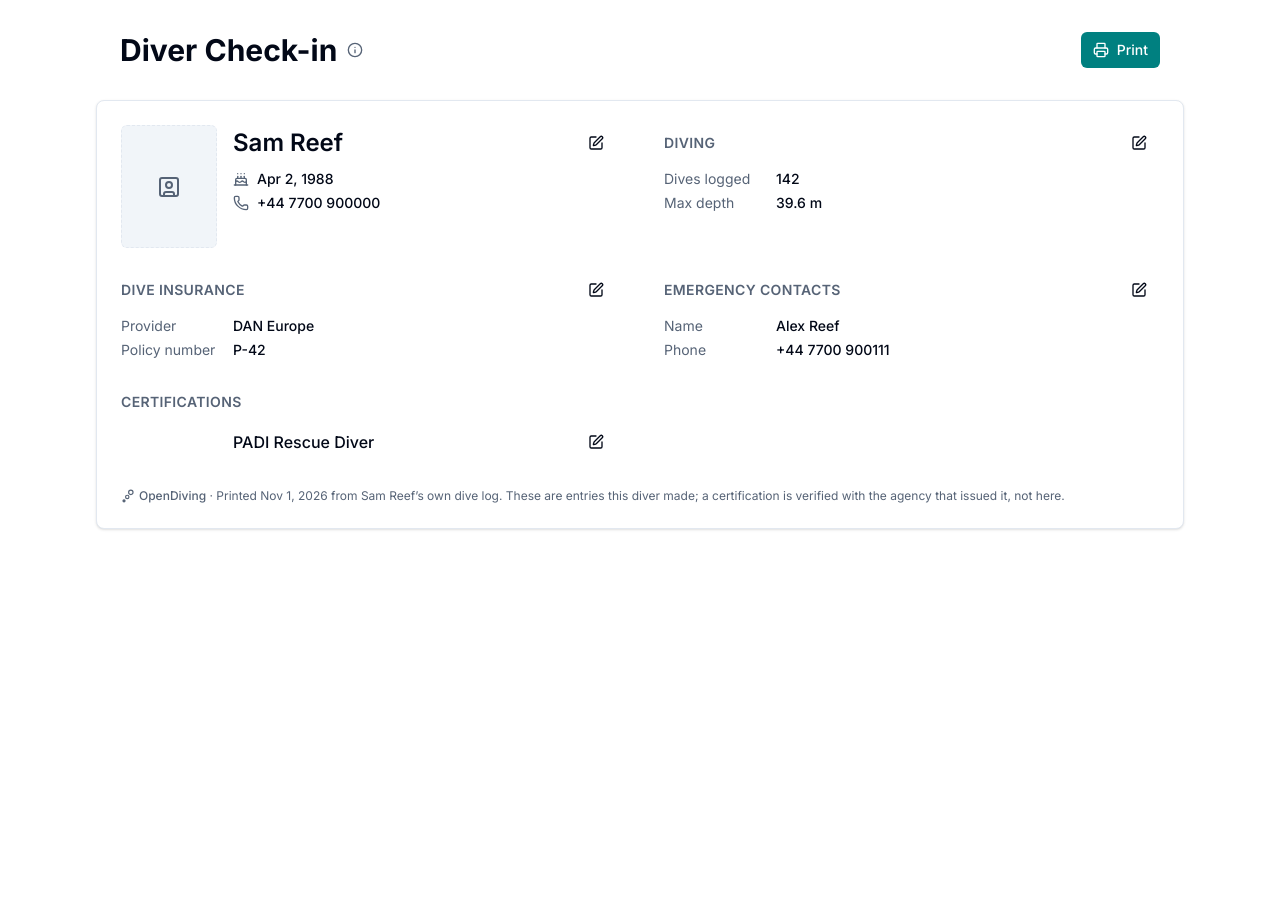
Scenario: editing from the sheet › opens a card in the certification form it is edited in everywhere else
Click the button named "Edit Rescue Diver" at (596, 442), box [576,424,616,460]
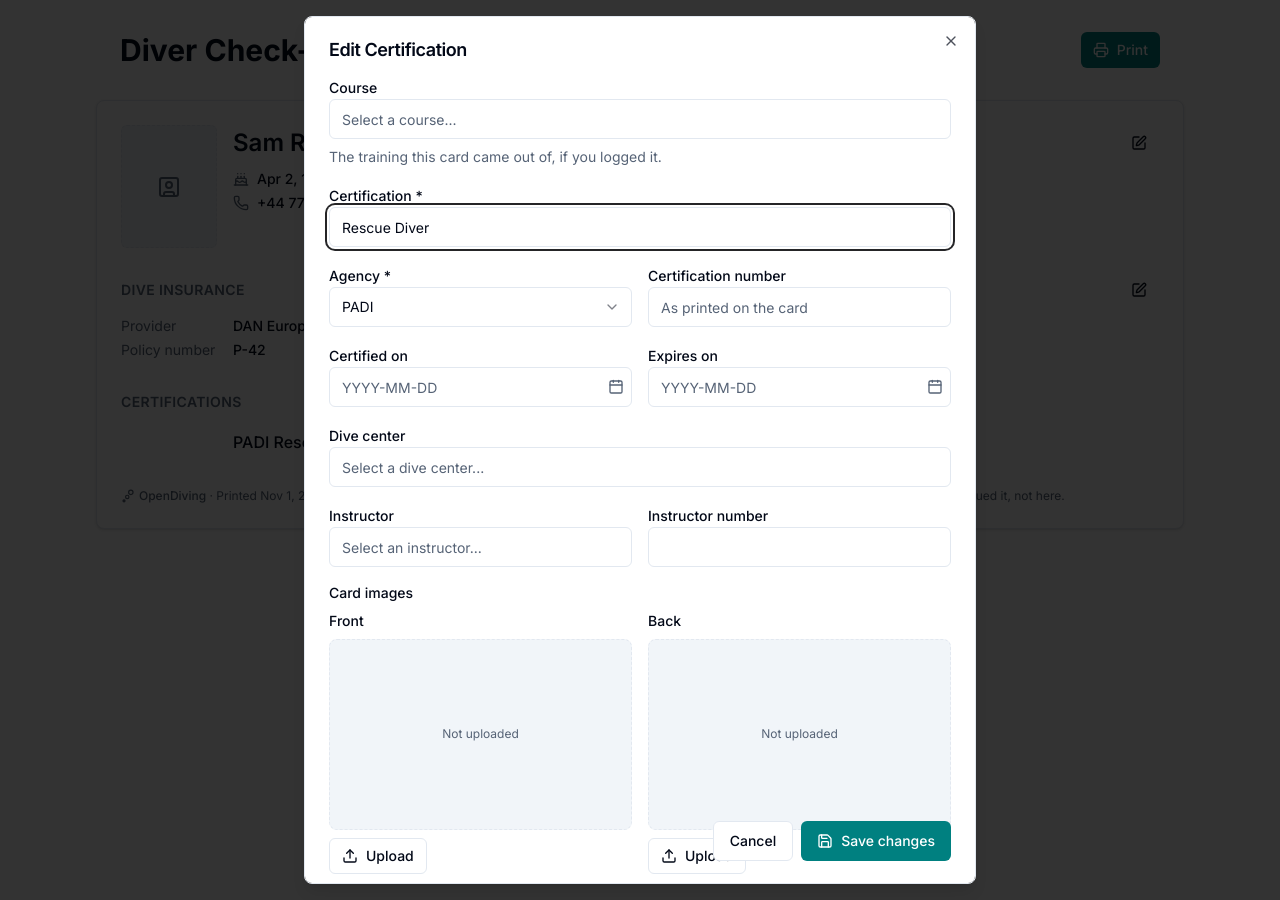
Expected: the field labelled "Certification *" holds "Rescue Diver", [329,207,951,247]
